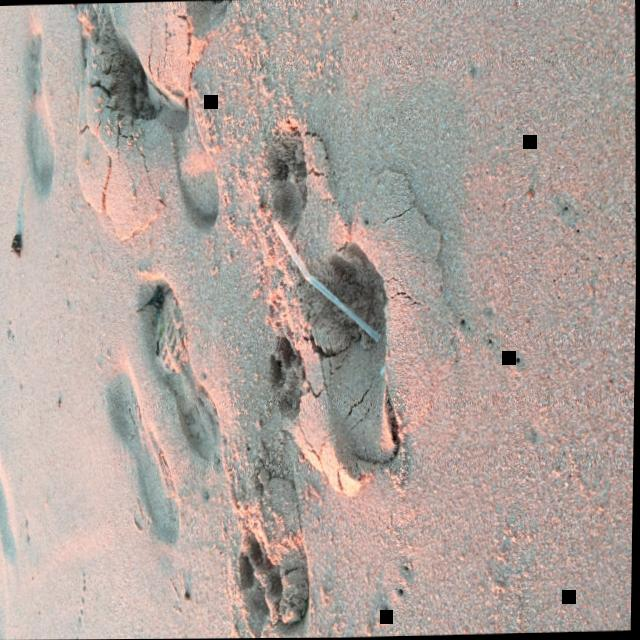Plastic straw: (273, 221, 381, 342)
